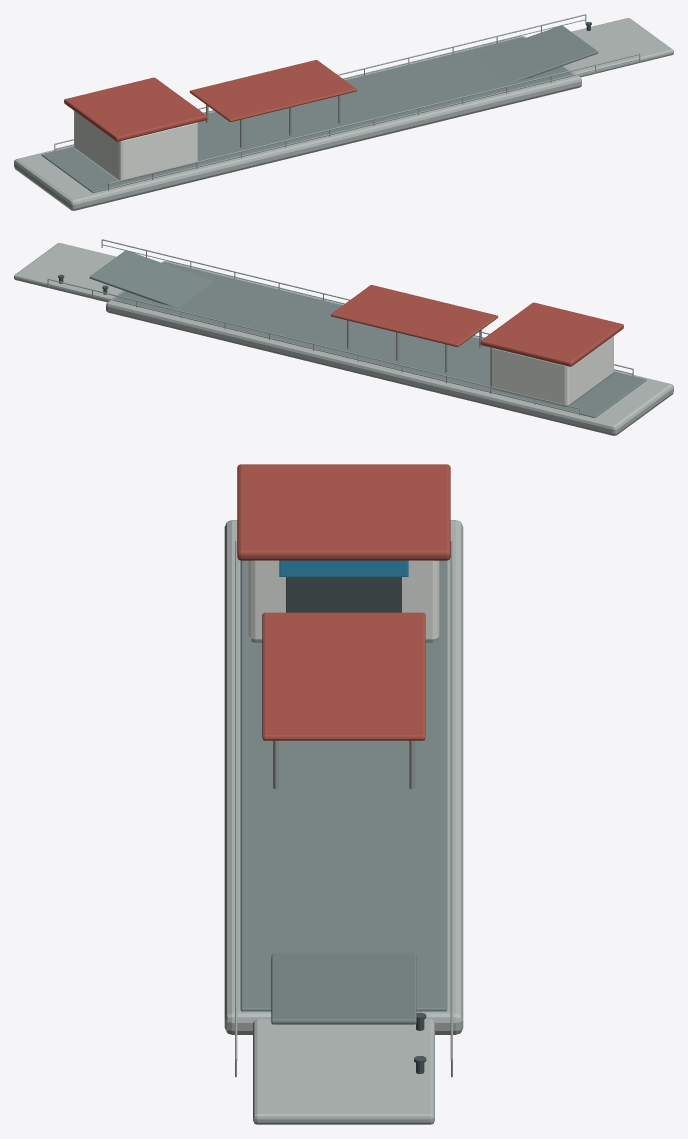
The model's file is ferry-mianhuadi-pier-lod1.glb.
3 views of the same model, one above another, from view 1: azimuth 30°, elevation 25°; view 2: azimuth 150°, elevation 25°; view 3: azimuth 270°, elevation 25° (orthographic). The views are drawn at different scales.
Parts seen in each view (by area): view 1: Mianhuadi deck paving, Mianhuadi embankment platform, Mianhuadi waiting canopy, Mianhuadi gatehouse roof, Mianhuadi gatehouse, Mianhuadi sloped gangway, Mianhuadi floating apron, Mianhuadi embankment rail, Mianhuadi embankment rail.001, Mianhuadi embankment rail.002, Mianhuadi embankment rail.003; view 2: Mianhuadi deck paving, Mianhuadi embankment platform, Mianhuadi waiting canopy, Mianhuadi gatehouse roof, Mianhuadi gatehouse, Mianhuadi sloped gangway, Mianhuadi floating apron, Mianhuadi embankment rail.002, Mianhuadi embankment rail.003, Mianhuadi embankment rail, Mianhuadi embankment rail.001; view 3: Mianhuadi deck paving, Mianhuadi waiting canopy, Mianhuadi gatehouse roof, Mianhuadi floating apron, Mianhuadi embankment platform, Mianhuadi sloped gangway, Mianhuadi gatehouse, Mianhuadi passage opening, Mianhuadi name board, Mianhuadi embankment rail, Mianhuadi embankment rail.002.
Part boxes in pixels (<box>): Mianhuadi deck paving: <box>41,37,573,192</box>; Mianhuadi embankment platform: <box>14,36,581,210</box>; Mianhuadi waiting canopy: <box>189,60,357,121</box>; Mianhuadi gatehouse roof: <box>64,77,207,141</box>; Mianhuadi gatehouse: <box>74,111,197,181</box>; Mianhuadi sloped gangway: <box>473,25,598,82</box>; Mianhuadi floating apron: <box>565,18,673,77</box>; Mianhuadi embankment rail: <box>108,53,639,184</box>; Mianhuadi embankment rail.001: <box>109,59,639,188</box>; Mianhuadi embankment rail.002: <box>54,14,585,144</box>; Mianhuadi embankment rail.003: <box>55,19,585,149</box>; Mianhuadi deck paving: <box>114,262,646,417</box>; Mianhuadi embankment platform: <box>106,261,673,435</box>; Mianhuadi waiting canopy: <box>330,285,498,346</box>; Mianhuadi gatehouse roof: <box>480,302,623,366</box>; Mianhuadi gatehouse: <box>490,336,613,406</box>; Mianhuadi sloped gangway: <box>89,250,214,307</box>; Mianhuadi floating apron: <box>14,243,122,302</box>; Mianhuadi embankment rail.002: <box>48,278,579,409</box>; Mianhuadi embankment rail.003: <box>48,284,578,413</box>; Mianhuadi embankment rail: <box>102,239,633,369</box>; Mianhuadi embankment rail.001: <box>102,244,632,374</box>; Mianhuadi deck paving: <box>240,560,447,1011</box>; Mianhuadi waiting canopy: <box>262,612,425,740</box>; Mianhuadi gatehouse roof: <box>237,464,450,560</box>; Mianhuadi floating apron: <box>253,1019,434,1124</box>; Mianhuadi embankment platform: <box>224,520,463,1034</box>; Mianhuadi sloped gangway: <box>271,952,416,1024</box>; Mianhuadi gatehouse: <box>248,560,439,642</box>; Mianhuadi passage opening: <box>286,577,401,612</box>; Mianhuadi name board: <box>279,560,408,576</box>; Mianhuadi embankment rail: <box>235,541,237,1060</box>; Mianhuadi embankment rail.002: <box>450,541,452,1060</box>.
Size of the model in its own units: 62 by 5.94 by 10.5.
